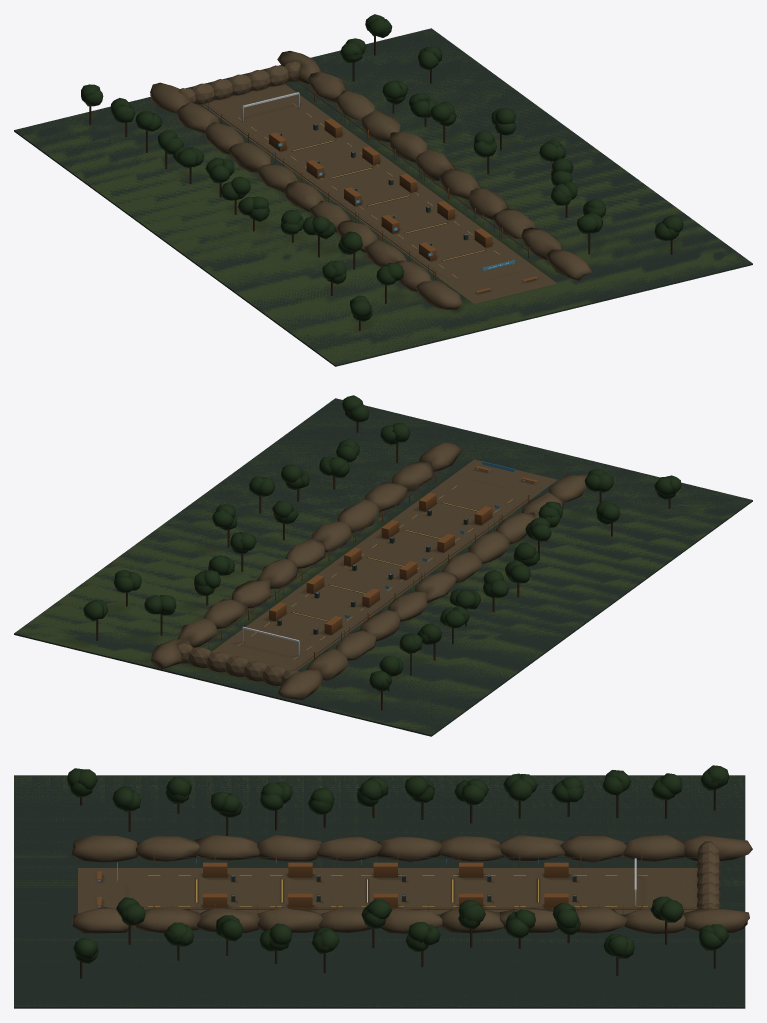
The model's file is runthrough.glb.
3 renders of one model, top to bottom at view 1: azimuth 30°, elevation 25°; view 2: azimuth 150°, elevation 25°; view 3: azimuth 270°, elevation 25°, orthographic. The views are drawn at different scales.
Visible parts, largest first — view 1: Outdoor meadow, COL_ground, Gravel exercise corridor, Sculpted earthen berm, Sculpted earthen berm.011, Sculpted earthen berm.007, Sculpted earthen berm.015, Sculpted earthen berm.018, Sculpted earthen berm.014, Sculpted earthen berm.009, Sculpted earthen berm.013, Sculpted earthen berm.017 (+13 smaller); view 2: COL_ground, Outdoor meadow, Gravel exercise corridor, Sculpted earthen berm.010, Sculpted earthen berm.014, Sculpted earthen berm.003, Sculpted earthen berm.019, Sculpted earthen berm.012, Sculpted earthen berm.018, Sculpted earthen berm.008, Sculpted earthen berm.016, Sculpted earthen berm.005 (+12 smaller); view 3: COL_ground, Gravel exercise corridor, Outdoor meadow, Sculpted earthen berm, Sculpted earthen berm.003, Sculpted earthen berm.008, Sculpted earthen berm.002, Sculpted earthen berm.007, Sculpted earthen berm.006, Sculpted earthen berm.009, Sculpted earthen berm.001, Sculpted earthen berm.005 (+17 smaller).
Part boxes in pixels (bbox=[...]): Outdoor meadow: bbox=[15, 29, 751, 364]; COL_ground: bbox=[14, 28, 752, 366]; Gravel exercise corridor: bbox=[202, 84, 557, 303]; Sculpted earthen berm: bbox=[415, 280, 462, 309]; Sculpted earthen berm.011: bbox=[545, 249, 592, 280]; Sculpted earthen berm.007: bbox=[228, 143, 271, 172]; Sculpted earthen berm.015: bbox=[439, 168, 480, 199]; Sculpted earthen berm.018: bbox=[361, 110, 400, 142]; Sculpted earthen berm.014: bbox=[468, 188, 508, 219]; Sculpted earthen berm.009: bbox=[176, 102, 218, 133]; Sculpted earthen berm.013: bbox=[491, 208, 535, 238]; Sculpted earthen berm.017: bbox=[390, 132, 427, 162]; COL_ground: bbox=[14, 398, 752, 736]; Outdoor meadow: bbox=[15, 399, 751, 734]; Gravel exercise corridor: bbox=[205, 459, 557, 682]; Sculpted earthen berm.010: bbox=[277, 669, 323, 699]; Sculpted earthen berm.014: bbox=[338, 499, 380, 532]; Sculpted earthen berm.003: bbox=[467, 531, 509, 563]; Sculpted earthen berm.019: bbox=[204, 599, 248, 628]; Sculpted earthen berm.012: bbox=[391, 460, 433, 491]; Sculpted earthen berm.018: bbox=[231, 579, 271, 608]; Sculpted earthen berm.008: bbox=[335, 629, 376, 660]; Sculpted earthen berm.016: bbox=[285, 539, 325, 569]; Sculpted earthen berm.005: bbox=[415, 572, 458, 602]; COL_ground: bbox=[14, 775, 745, 1008]; Gravel exercise corridor: bbox=[78, 868, 697, 914]; Outdoor meadow: bbox=[14, 775, 745, 1006]; Sculpted earthen berm: bbox=[72, 835, 137, 862]; Sculpted earthen berm.003: bbox=[256, 835, 321, 861]; Sculpted earthen berm.008: bbox=[560, 836, 626, 862]; Sculpted earthen berm.002: bbox=[194, 835, 259, 860]; Sculpted earthen berm.007: bbox=[499, 835, 565, 860]; Sculpted earthen berm.006: bbox=[438, 836, 503, 861]; Sculpted earthen berm.009: bbox=[621, 835, 684, 861]; Sculpted earthen berm.001: bbox=[136, 836, 199, 861]; Sculpted earthen berm.005: bbox=[376, 836, 441, 862].
Size of the model in its own units: 90 by 9.83 by 121.
Materials: 11 (5 with a texture image).
